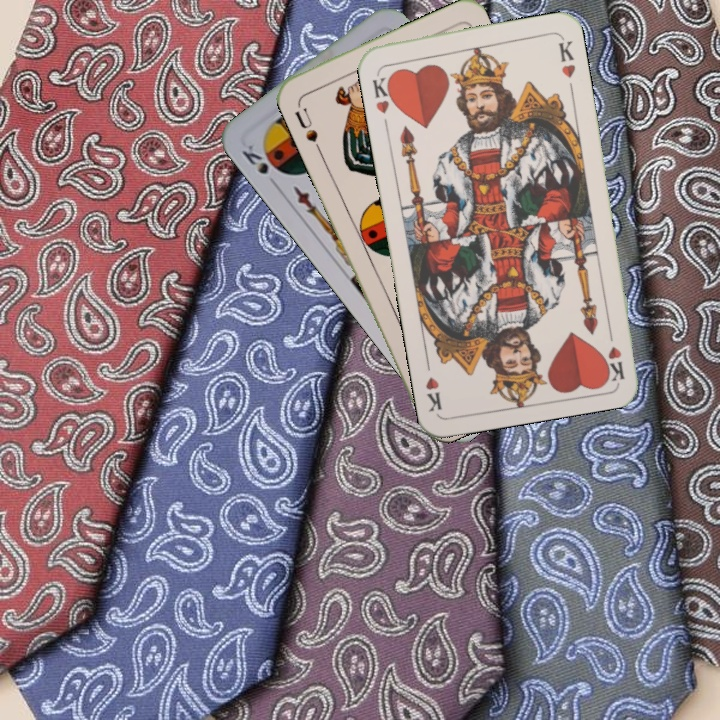HK: (603, 322, 628, 382), (368, 68, 398, 116)
SK: (237, 140, 281, 191)
SU: (290, 104, 324, 154)
